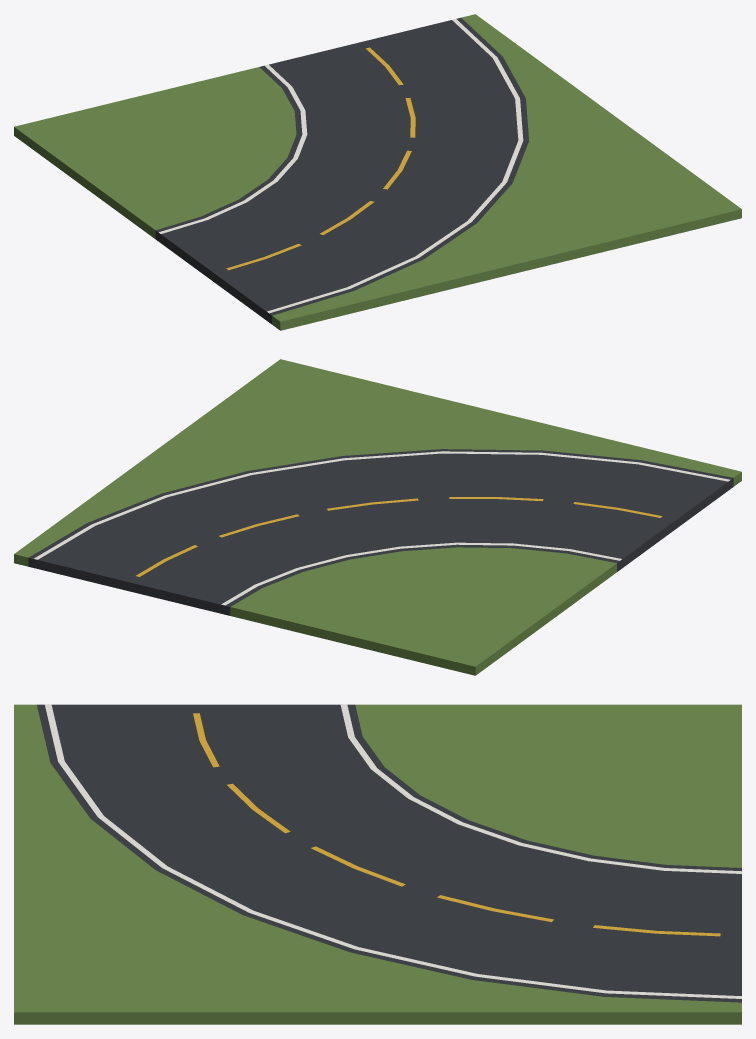
File: Road_2Lane_NoSidewalk_Curve90_R.glb
3 renders of one model, top to bottom at view 1: azimuth 30°, elevation 25°; view 2: azimuth 150°, elevation 25°; view 3: azimuth 270°, elevation 25°, orthographic. The views are drawn at different scales.
Visible parts, largest first — view 1: Road_2Lane_NoSidewalk_Curve90_R_Grass-edge, Road_2Lane_NoSidewalk_Curve90_R_Asphalt, Road_2Lane_NoSidewalk_Curve90_R_PaintWhite, Road_2Lane_NoSidewalk_Curve90_R_PaintYellow; view 2: Road_2Lane_NoSidewalk_Curve90_R_Grass-edge, Road_2Lane_NoSidewalk_Curve90_R_Asphalt, Road_2Lane_NoSidewalk_Curve90_R_PaintWhite, Road_2Lane_NoSidewalk_Curve90_R_PaintYellow; view 3: Road_2Lane_NoSidewalk_Curve90_R_Grass-edge, Road_2Lane_NoSidewalk_Curve90_R_Asphalt, Road_2Lane_NoSidewalk_Curve90_R_PaintWhite, Road_2Lane_NoSidewalk_Curve90_R_PaintYellow.
Part boxes in pixels (left/top/right/bottom): Road_2Lane_NoSidewalk_Curve90_R_Grass-edge: left=14, top=14, right=741, bottom=330; Road_2Lane_NoSidewalk_Curve90_R_Asphalt: left=155, top=17, right=528, bottom=324; Road_2Lane_NoSidewalk_Curve90_R_PaintWhite: left=159, top=19, right=523, bottom=313; Road_2Lane_NoSidewalk_Curve90_R_PaintYellow: left=226, top=47, right=415, bottom=270; Road_2Lane_NoSidewalk_Curve90_R_Grass-edge: left=14, top=359, right=741, bottom=675; Road_2Lane_NoSidewalk_Curve90_R_Asphalt: left=28, top=449, right=733, bottom=615; Road_2Lane_NoSidewalk_Curve90_R_PaintWhite: left=34, top=451, right=730, bottom=605; Road_2Lane_NoSidewalk_Curve90_R_PaintYellow: left=136, top=497, right=662, bottom=576; Road_2Lane_NoSidewalk_Curve90_R_Grass-edge: left=14, top=704, right=741, bottom=1024; Road_2Lane_NoSidewalk_Curve90_R_Asphalt: left=37, top=704, right=741, bottom=1002; Road_2Lane_NoSidewalk_Curve90_R_PaintWhite: left=44, top=704, right=741, bottom=998; Road_2Lane_NoSidewalk_Curve90_R_PaintYellow: left=193, top=713, right=720, bottom=936.
Size of the model in its own units: 16 by 0.305 by 16.
